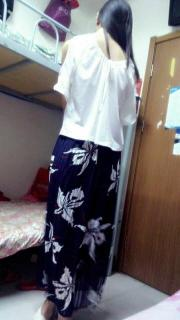short sleeve top: (53, 32, 137, 151)
skirt: (33, 133, 122, 318)
